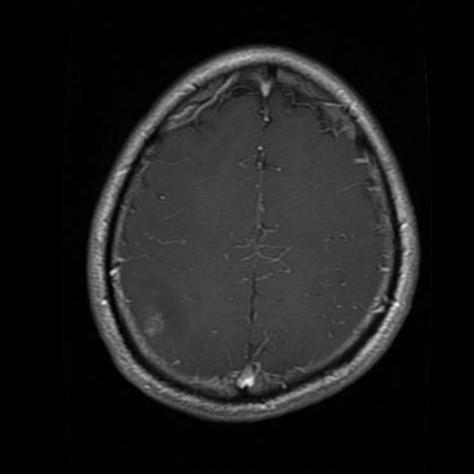Tumour-Glioma: (133, 300, 175, 345)
